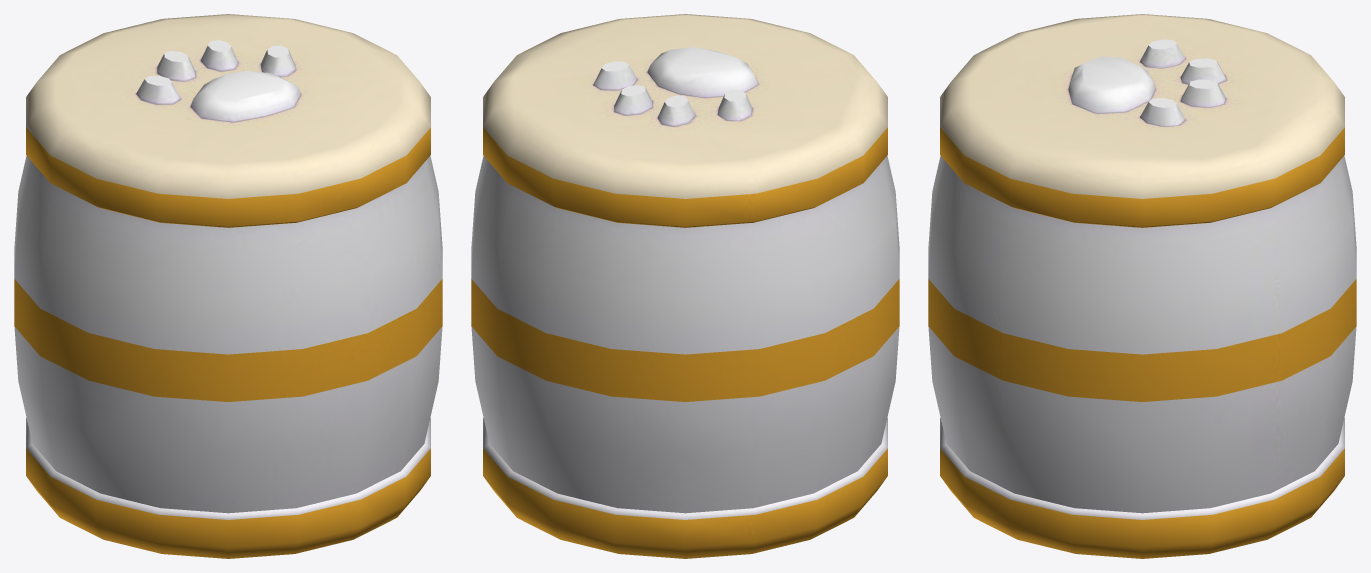
File: fici.glb
3 views of the same model, side by side, from view 1: azimuth 30°, elevation 25°; view 2: azimuth 150°, elevation 25°; view 3: azimuth 270°, elevation 25° (orthographic).
Visible parts, largest first — view 1: fici; view 2: fici; view 3: fici.
Part boxes in pixels (left/top/right/bottom): fici: left=14, top=14, right=442, bottom=558; fici: left=471, top=14, right=899, bottom=558; fici: left=928, top=14, right=1356, bottom=558.
Bounding box in the file's own units: 1.54 × 1.66 × 1.52.
1 material, 1 textured.
